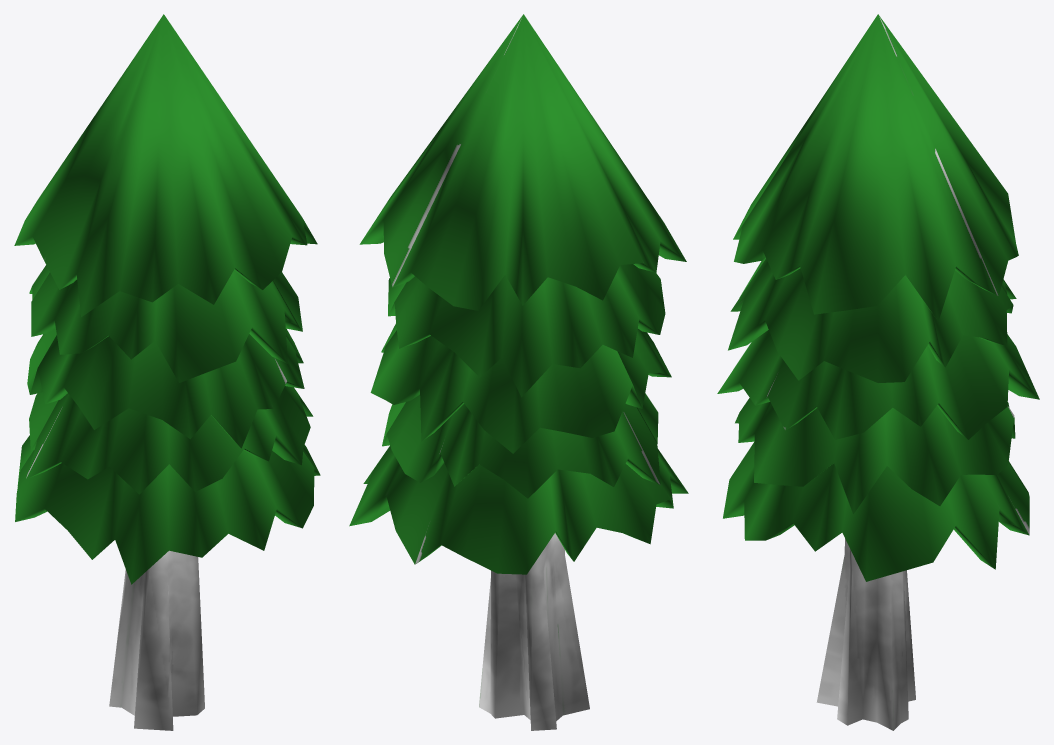
File: Spruce_Tree.fbx
3 renders of one model, left to right at view 1: azimuth 30°, elevation 25°; view 2: azimuth 150°, elevation 25°; view 3: azimuth 270°, elevation 25°, orthographic.
Visible parts, largest first — view 1: Cone; view 2: Cone; view 3: Cone.
Part boxes in pixels (bbox=[...]): Cone: bbox=[14, 14, 320, 730]; Cone: bbox=[349, 14, 688, 730]; Cone: bbox=[717, 14, 1039, 730].
Size of the model in its own units: 1071 by 2518 by 1054.
